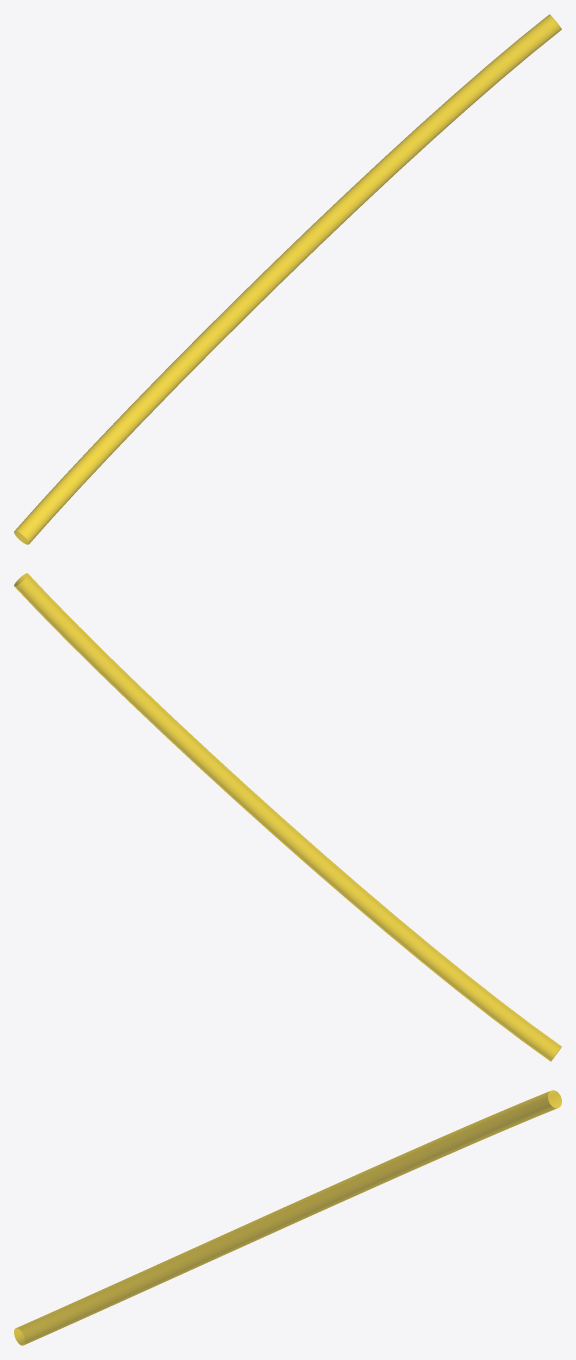
File: Event_75125125_track_36.fbx
3 renders of one model, top to bottom at view 1: azimuth 30°, elevation 25°; view 2: azimuth 150°, elevation 25°; view 3: azimuth 330°, elevation 25°, orthographic. The views are drawn at different scales.
Parts seen in each view (by area): view 1: Model; view 2: Model; view 3: Model.
Boxes of the visible parts, x1=… form: Model: x1=14, y1=14, x2=561, y2=544; Model: x1=14, y1=573, x2=561, y2=1061; Model: x1=14, y1=1090, x2=561, y2=1345.
Size of the model in its own units: 1.3 by 0.8632 by 0.1173.
